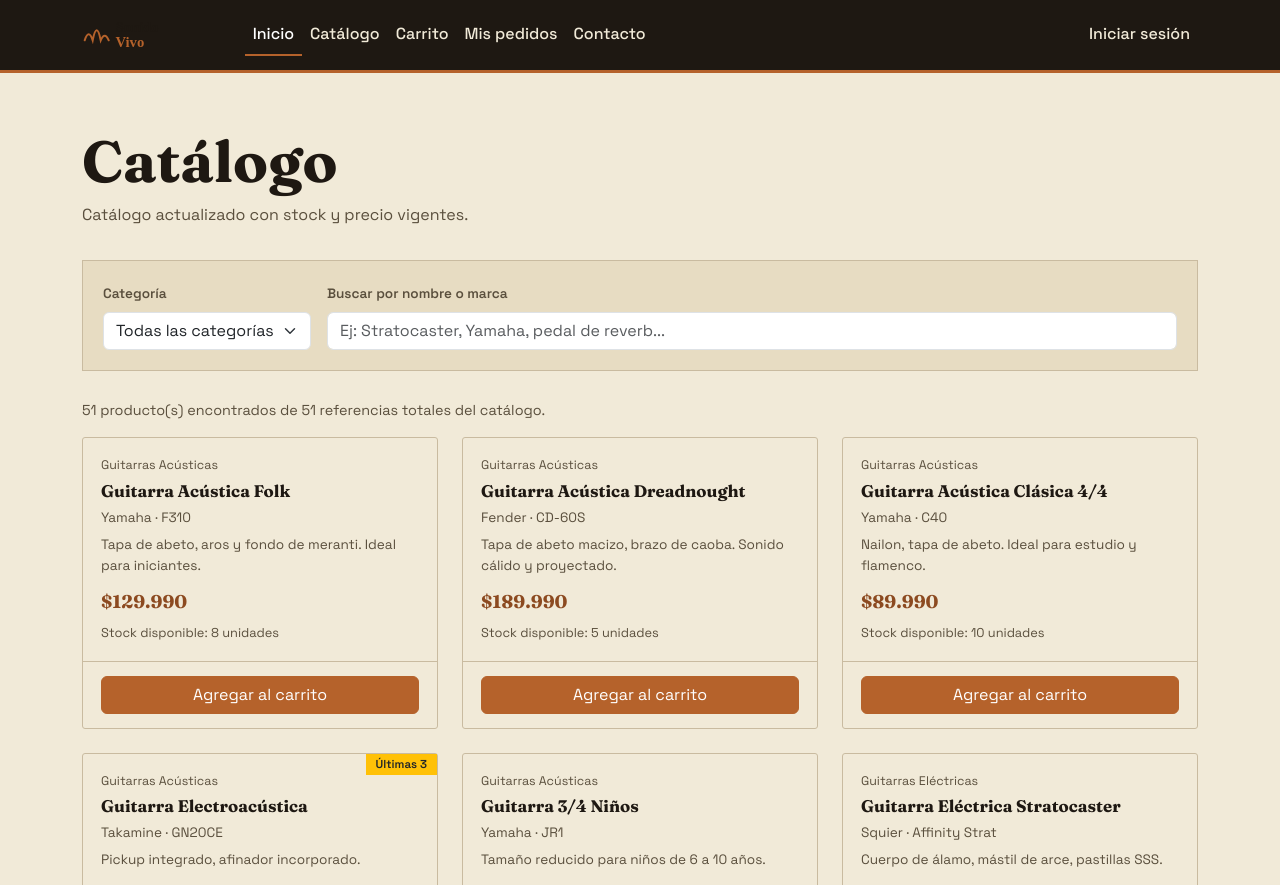
Catalogo › avisa cuando la búsqueda no tiene resultados
This screenshot has width=1280, height=885.
Type "zzzznoexiste" into the search field labelled "Buscar por nombre o marca". click: (752, 331)
box: [327, 312, 1177, 350]
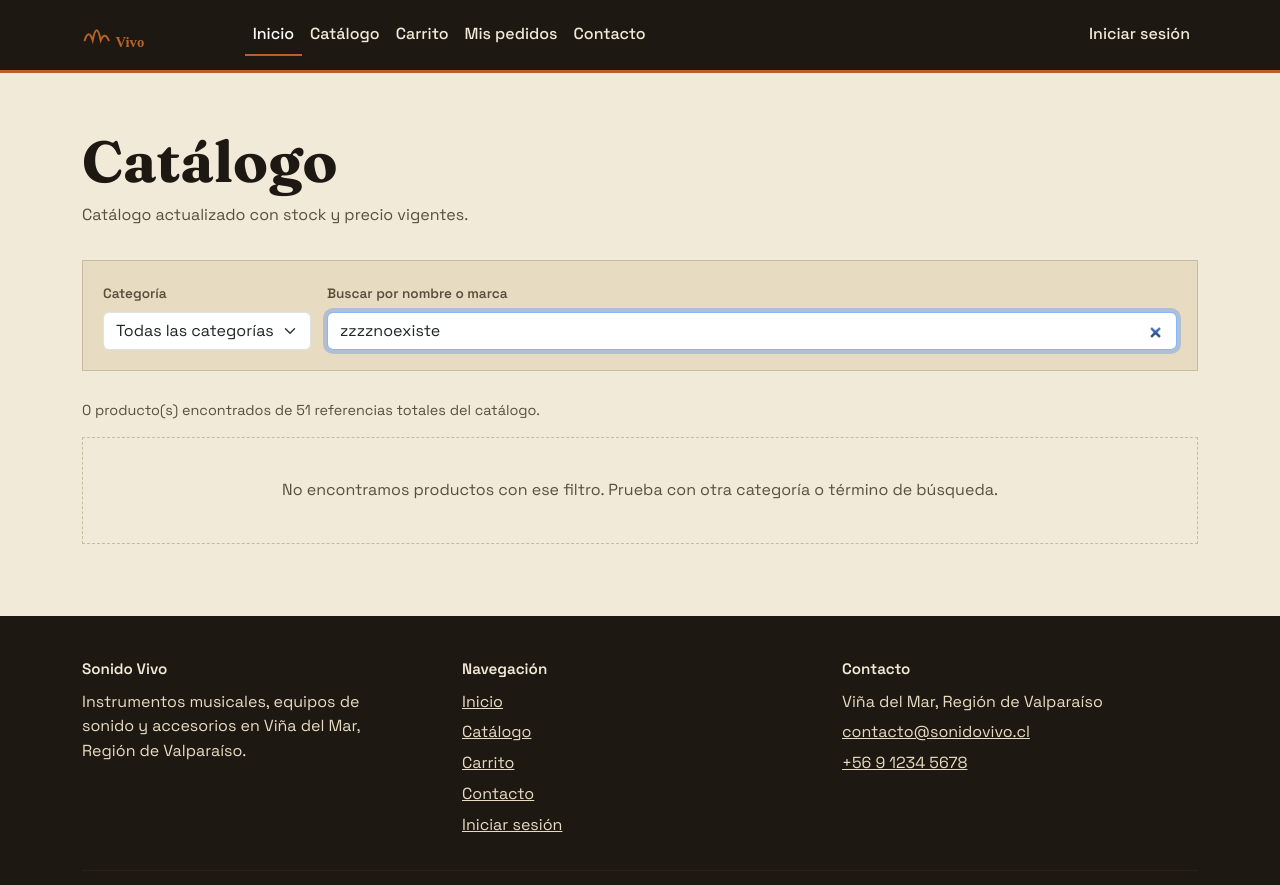
Expected: the text "No encontramos productos con ese filtro" is shown, [282, 479, 998, 500]
